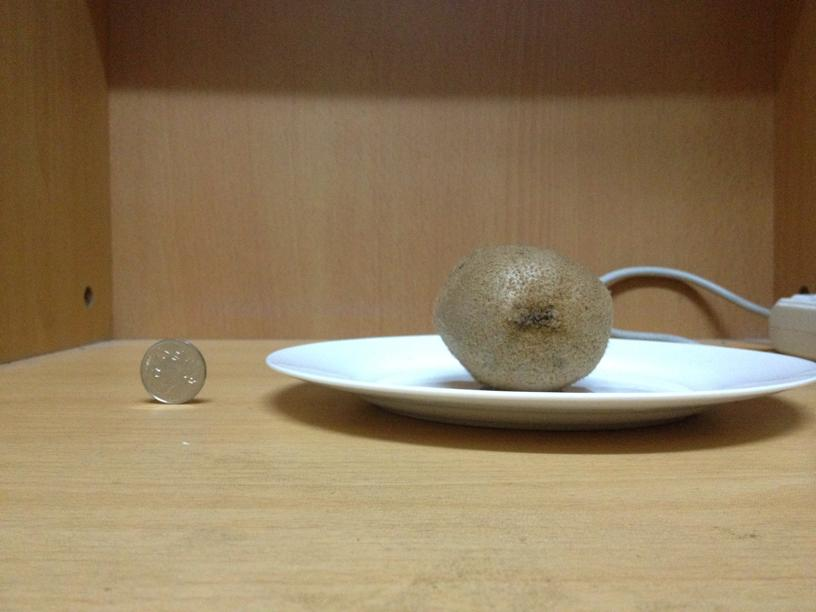coin: (133, 340, 208, 405)
qiwi: (432, 240, 612, 389)
